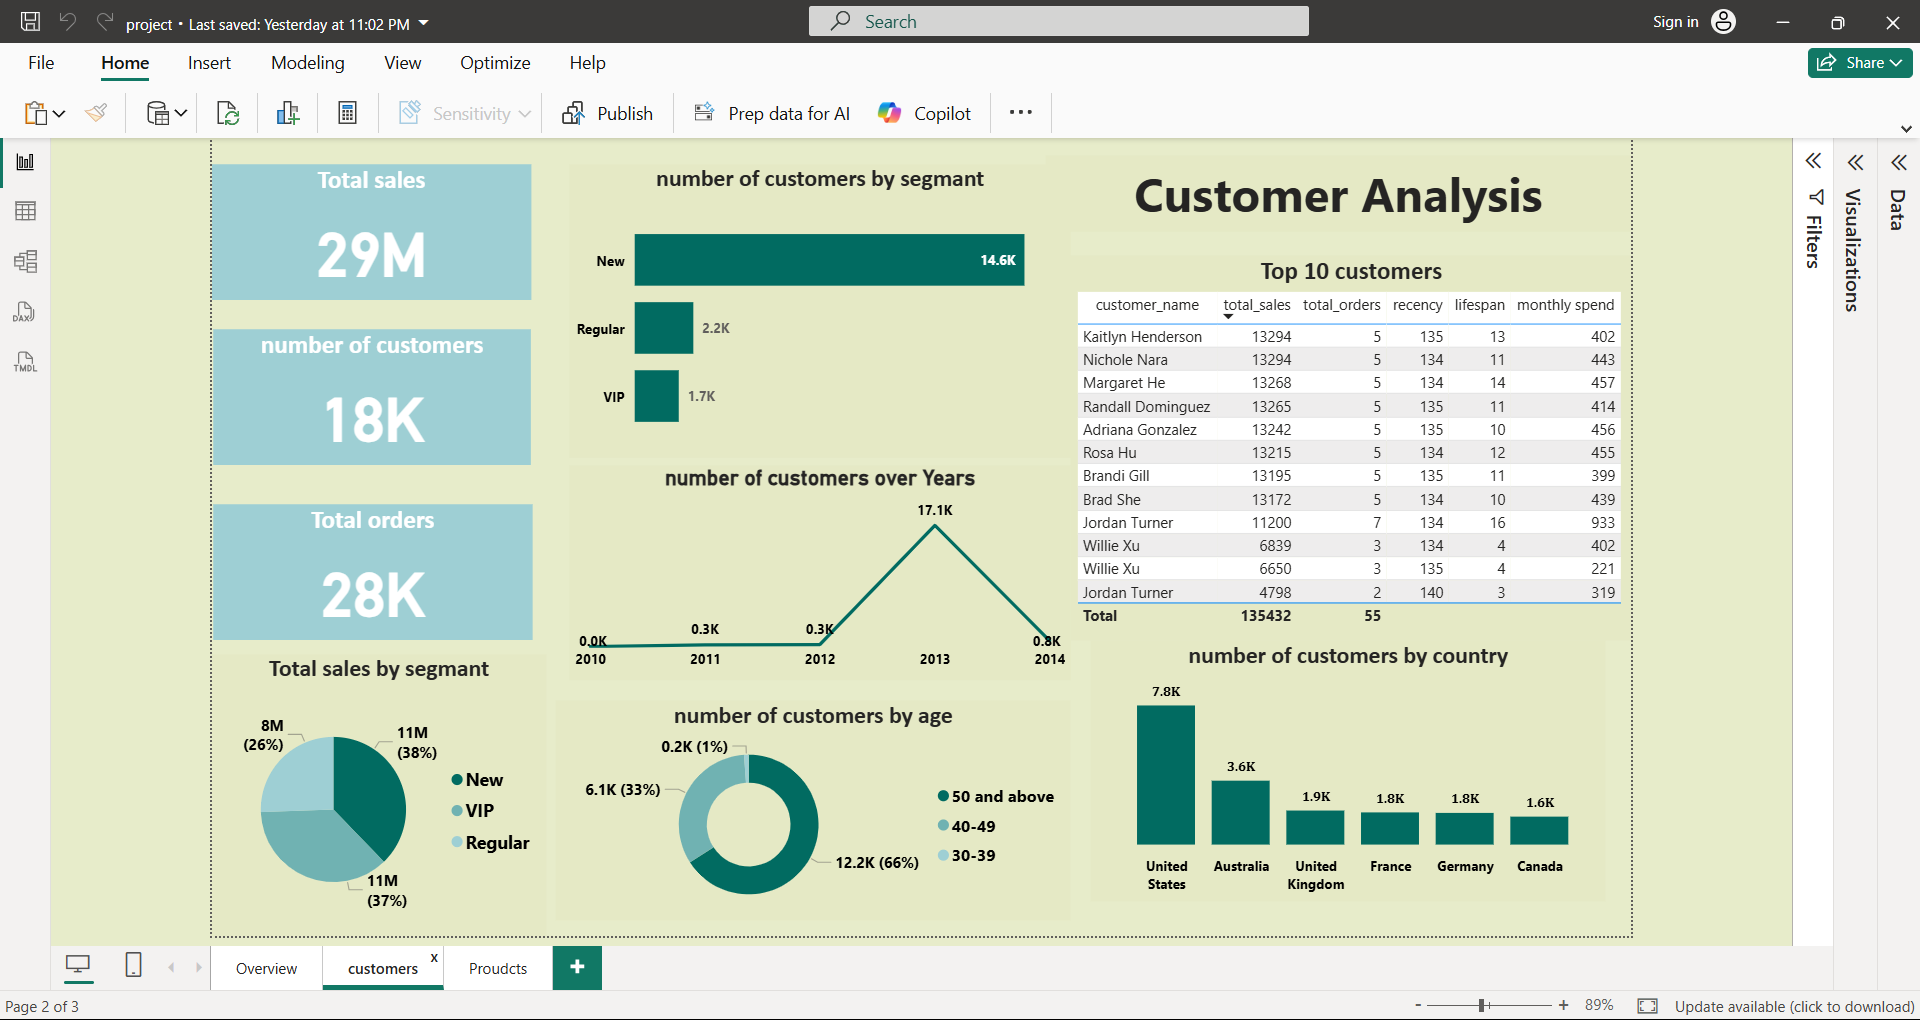

Layout of this report page (visuals, bound fields, positions):
{"tool":"powerbi","page":{"name":"customers","canvas":[1280,720],"ordinal":1},"visuals":[{"type":"textbox","box":[752.3,16.3,527.9,68.6],"z":0},{"type":"card","title":"Total sales","fields":{"Values":["gold fact_sales.sales_amount"]},"box":[0,23.3,287.9,122.5],"z":1000},{"type":"card","title":"Total orders","fields":{"Values":["gold report_customers.total_orders"]},"box":[1.2,330.8,287.9,122.5],"z":2000},{"type":"card","title":"number of customers","fields":{"Values":["gold dim_customers.number of customer"]},"box":[1.2,172.7,286.7,122.5],"z":3000},{"type":"barChart","title":"number of customers by segmant","fields":{"Category":["gold report_customers.customer_segment"],"Y":["gold report_customers.num of customers"]},"box":[322.2,23.3,452.1,264.6],"z":4000},{"type":"tableEx","title":"Top 10 customers","fields":{"Values":["gold report_customers.customer_name","gold report_customers.total_sales","gold report_customers.total_orders","gold report_customers.recency","gold report_customers.lifespan","gold report_customers.avg_monthly_spend"]},"box":[774.1,106.4,506.3,347.3],"z":5000},{"type":"donutChart","title":"number of customers by age","fields":{"Category":["gold report_customers.age_group"],"Y":["gold report_customers.num of customers"]},"box":[310,507.2,464.3,198.5],"z":6000},{"type":"lineChart","title":"number of customers over Years","fields":{"Category":["gold report_customers.last_order_date.Variation.Date Hierarchy.Year"],"Y":["gold report_customers.num of customers"]},"box":[322.2,295.3,452.1,193.6],"z":7000},{"type":"columnChart","title":"number of customers by country","fields":{"Category":["gold dim_customers.country"],"Y":["gold report_customers.num of customers"]},"box":[792.7,453.3,464.3,235.2],"z":8000},{"type":"pieChart","title":"Total sales by segmant","fields":{"Category":["gold report_customers.customer_segment"],"Y":["gold report_customers.total_sales"]},"box":[0,465.5,301.4,254.8],"z":9000}]}

Visuals, with their boxes on the page's 1280x720 design canvas (x1, y1, x2, y2). These are canvas units, not pixel positions in the 1920x1020 screenshot, which may show the page scaled, cropped or inside an application window:
textbox: pyautogui.locateOnScreen(752, 16, 1280, 85)
"Total sales" card: pyautogui.locateOnScreen(0, 23, 288, 146)
"Total orders" card: pyautogui.locateOnScreen(1, 331, 289, 453)
"number of customers" card: pyautogui.locateOnScreen(1, 173, 288, 295)
"number of customers by segmant" barChart: pyautogui.locateOnScreen(322, 23, 774, 288)
"Top 10 customers" tableEx: pyautogui.locateOnScreen(774, 106, 1280, 454)
"number of customers by age" donutChart: pyautogui.locateOnScreen(310, 507, 774, 706)
"number of customers over Years" lineChart: pyautogui.locateOnScreen(322, 295, 774, 489)
"number of customers by country" columnChart: pyautogui.locateOnScreen(793, 453, 1257, 688)
"Total sales by segmant" pieChart: pyautogui.locateOnScreen(0, 466, 301, 720)
